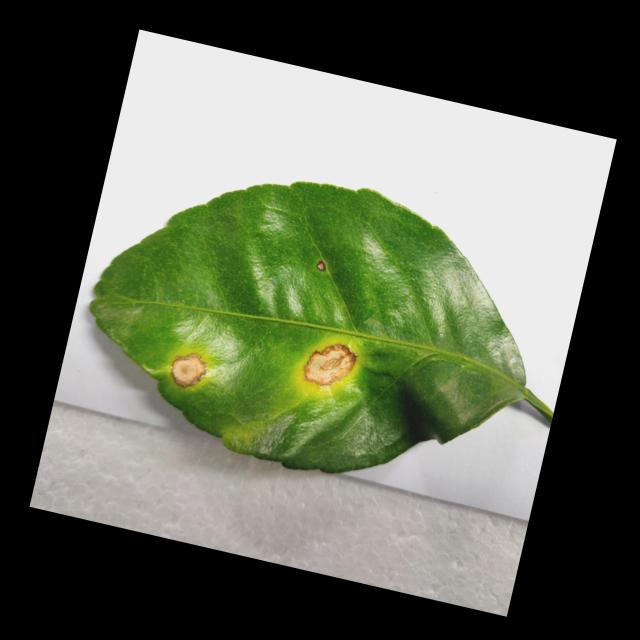antracnose: (91, 182, 553, 472), (305, 344, 356, 386), (171, 354, 206, 386), (317, 260, 327, 271)
